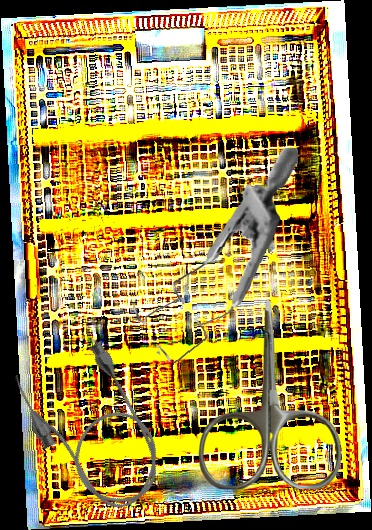Cannula: (5, 329, 180, 529)
Iris Scissors: (198, 300, 342, 489)
Speculum: (129, 137, 299, 371)
